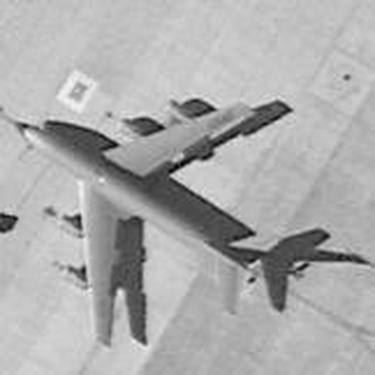airplane: (9, 75, 332, 355)
